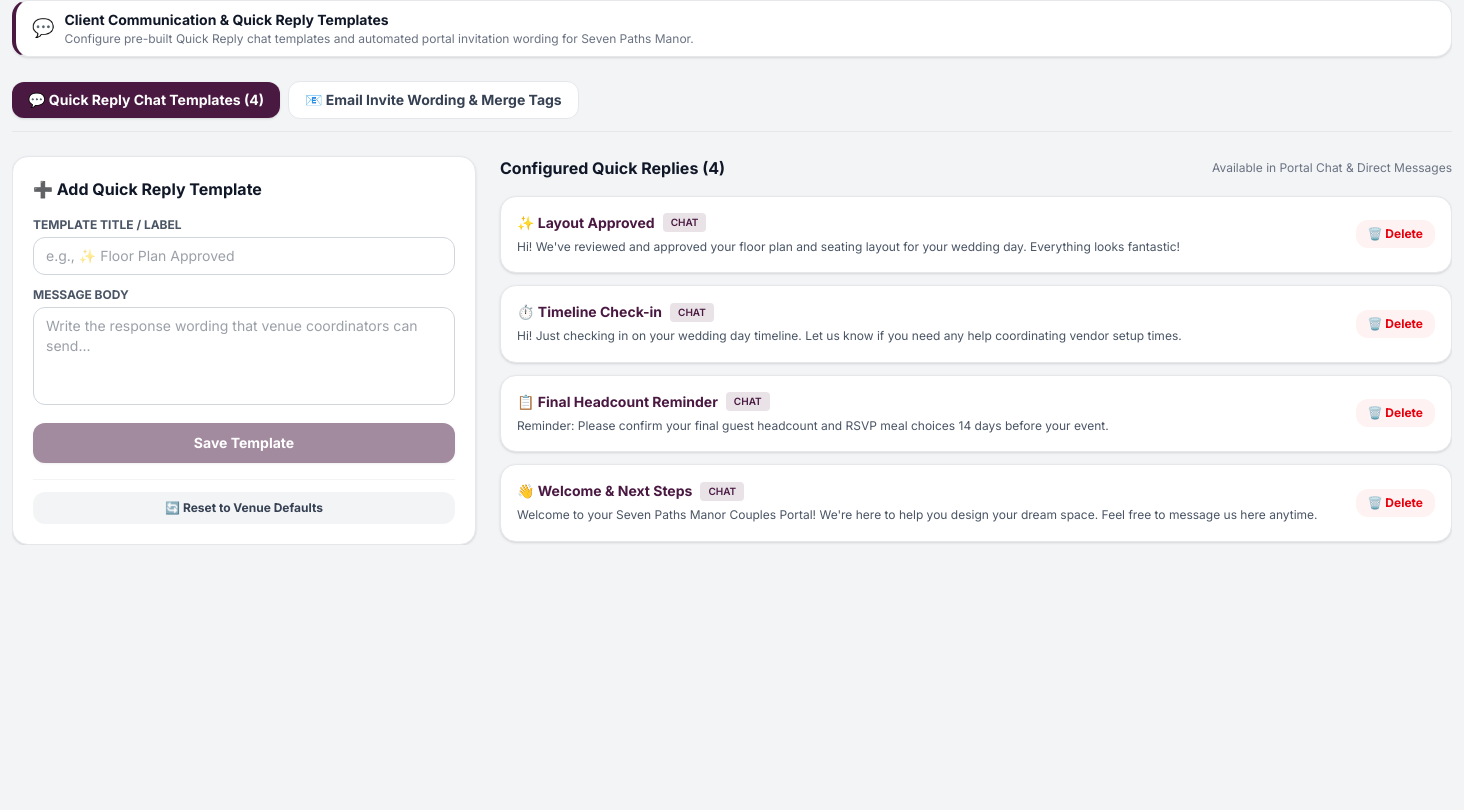
Test: CommunicationTemplatesManagement (#147) › renders configured Quick Reply templates and allows adding a new template
Expected: the text "✨ Layout Approved" is shown, [517, 212, 655, 232]
Expected: the text "⏱️ Timeline Check-in" is shown, [517, 302, 662, 322]
Step 1. Type "🍷 Alcohol Selection" into the field with placeholder "e.g., ✨ Floor Plan Approved" → (244, 256), box [33, 236, 455, 274]
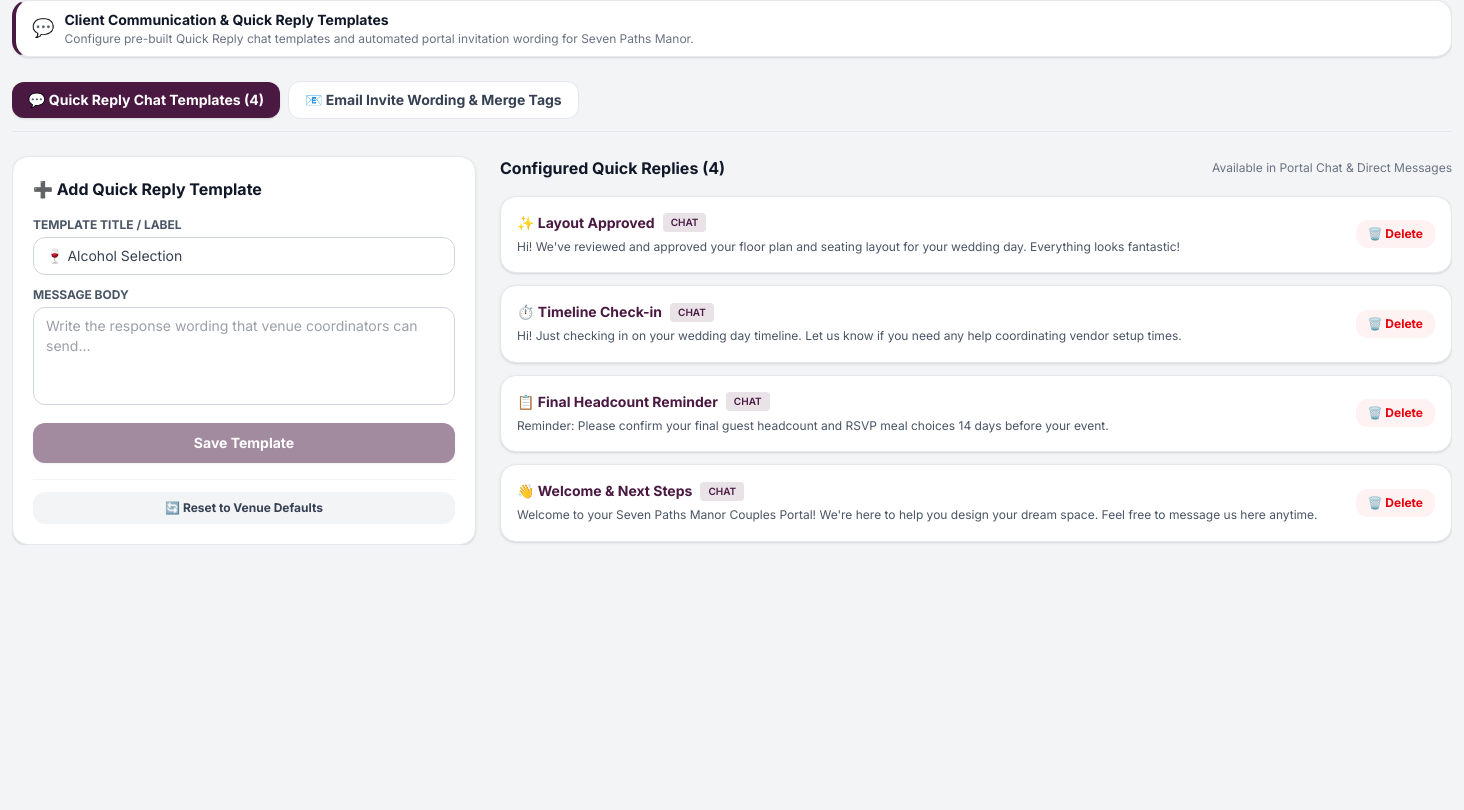
Step 2. Replace the text in the text box with placeholder "Write the response wording" with "Please confirm your bar package and wine preferences." → (244, 356), box [33, 306, 455, 404]
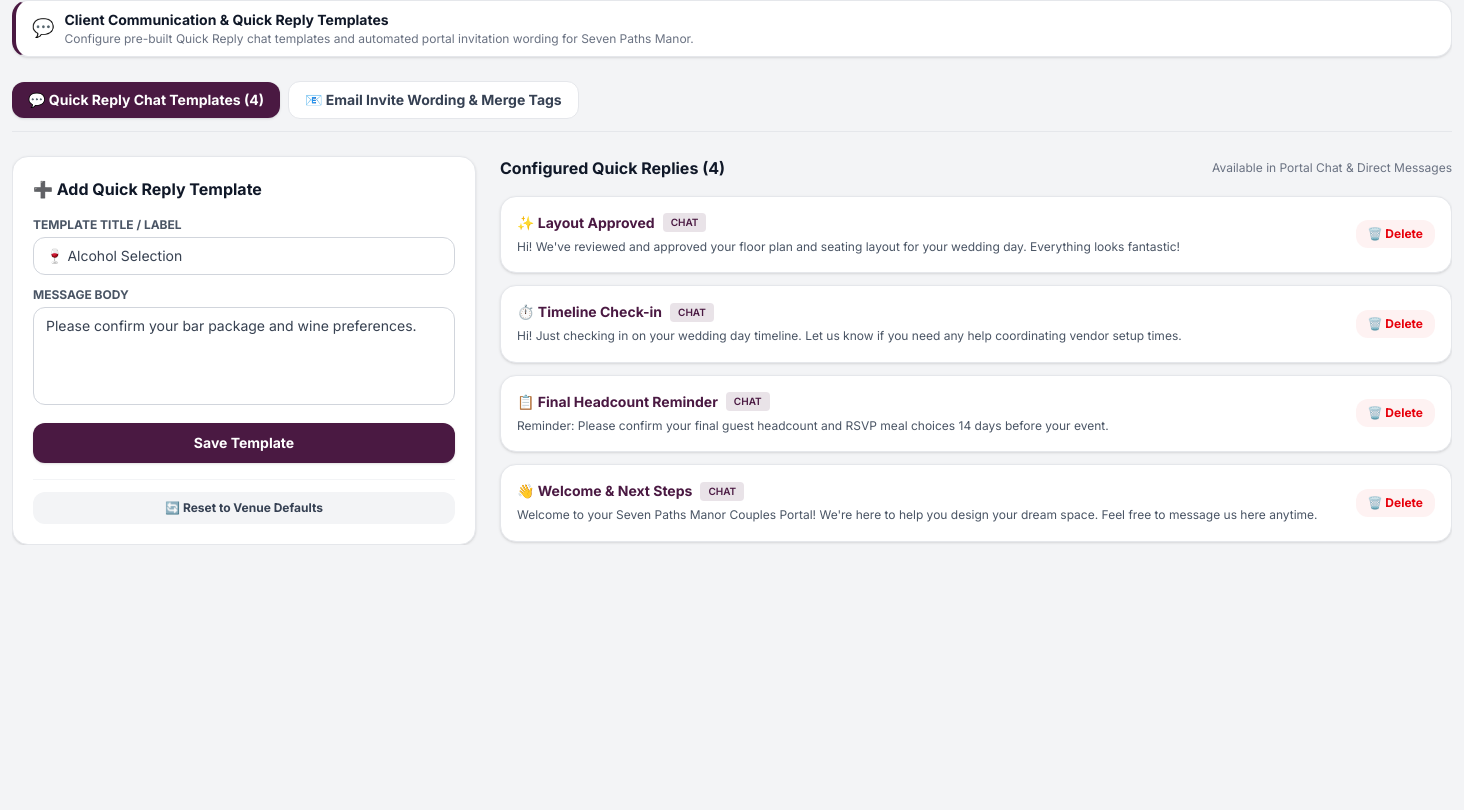
Step 3. Click the button "Save Template" → (244, 442), box [33, 422, 455, 462]
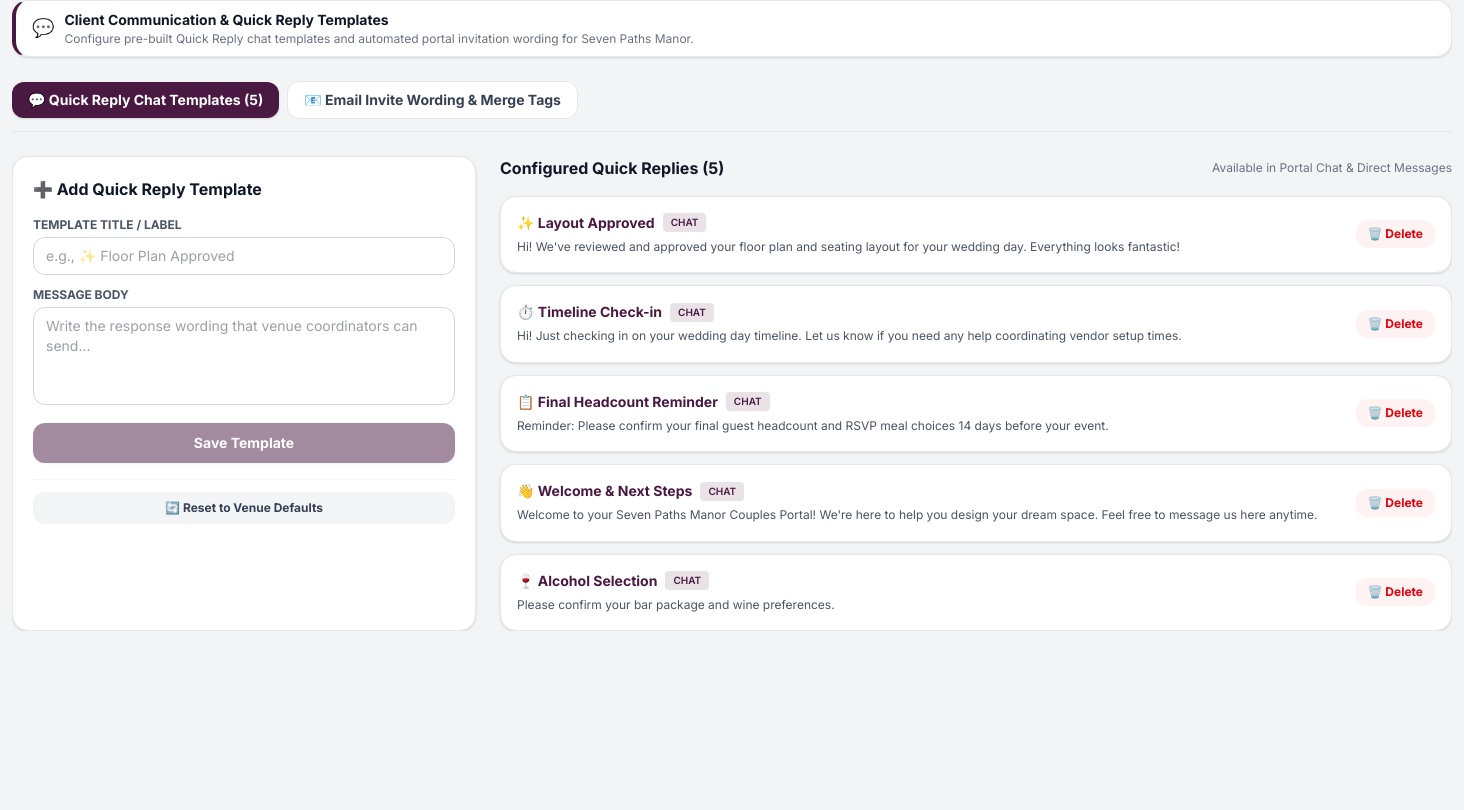
Expected: the text "🍷 Alcohol Selection" is shown, [517, 570, 657, 590]
Expected: the text "Please confirm your bar package and wine preferences." is shown, [517, 594, 835, 614]
